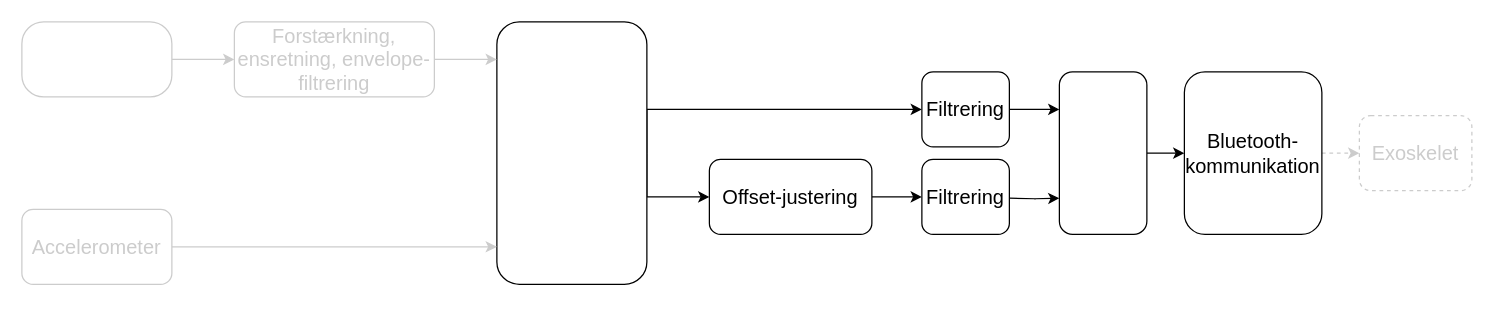
The diagram is 1494 pixels wide and 316 high, and some of its shapes have lost their labels. Each missing label, with the box of its shape:
A/D-konvertering: (496, 21, 647, 284)
Algoritme: (1058, 71, 1147, 234)
Elektroder: (21, 21, 172, 97)
